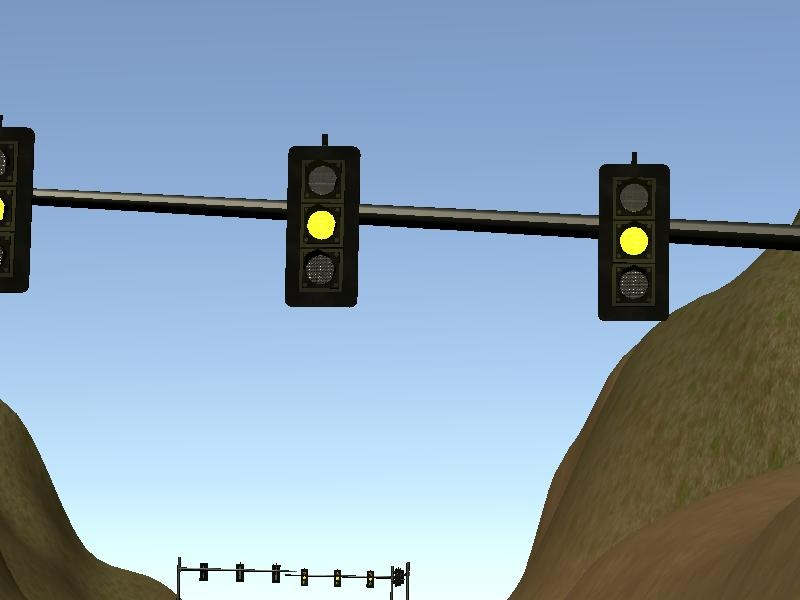yellow: (279, 131, 370, 315), (590, 152, 683, 329)
